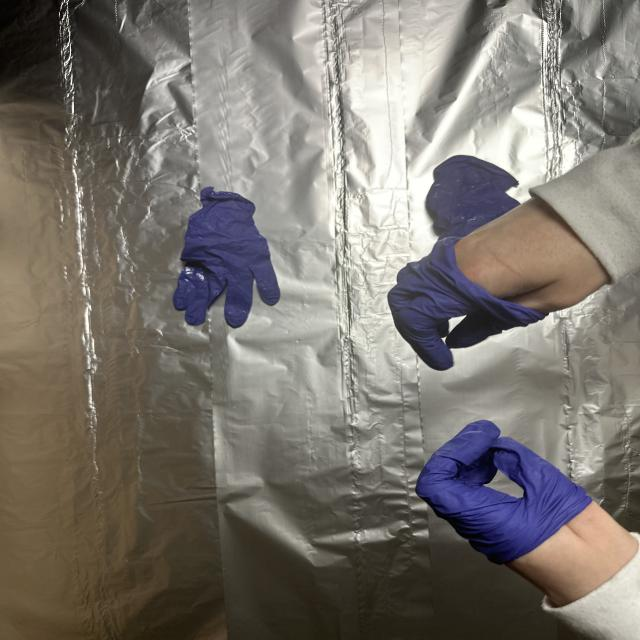glove_partial: (415, 414, 640, 613), (383, 189, 606, 371)
